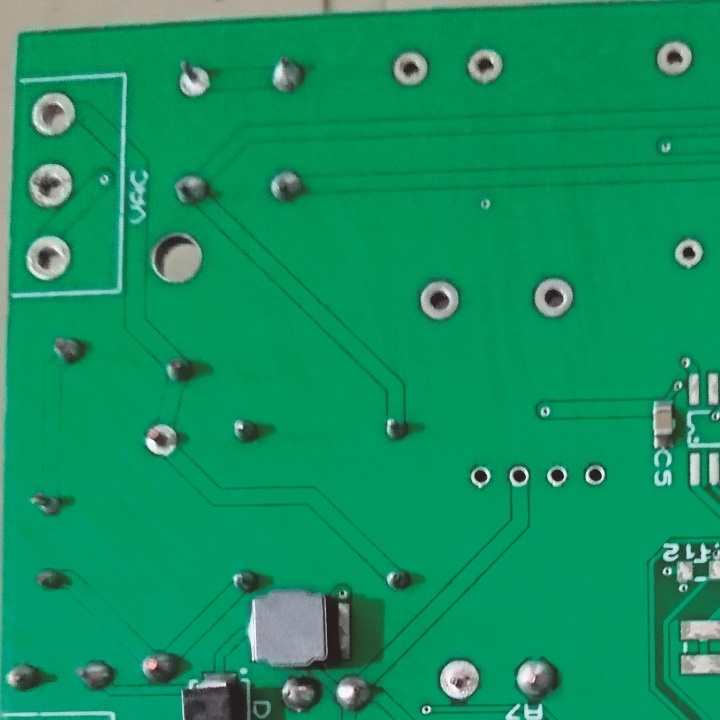F: (24, 231, 76, 286), (526, 270, 581, 320), (26, 89, 82, 137), (25, 160, 76, 210), (413, 280, 468, 325), (436, 656, 486, 705), (170, 56, 218, 100), (388, 47, 433, 92), (651, 35, 697, 79), (136, 420, 184, 460), (465, 46, 507, 89), (672, 232, 710, 274), (463, 462, 498, 494), (579, 461, 611, 490), (504, 460, 533, 491), (542, 464, 572, 493)
